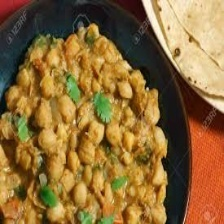roti: (149, 0, 224, 103)
